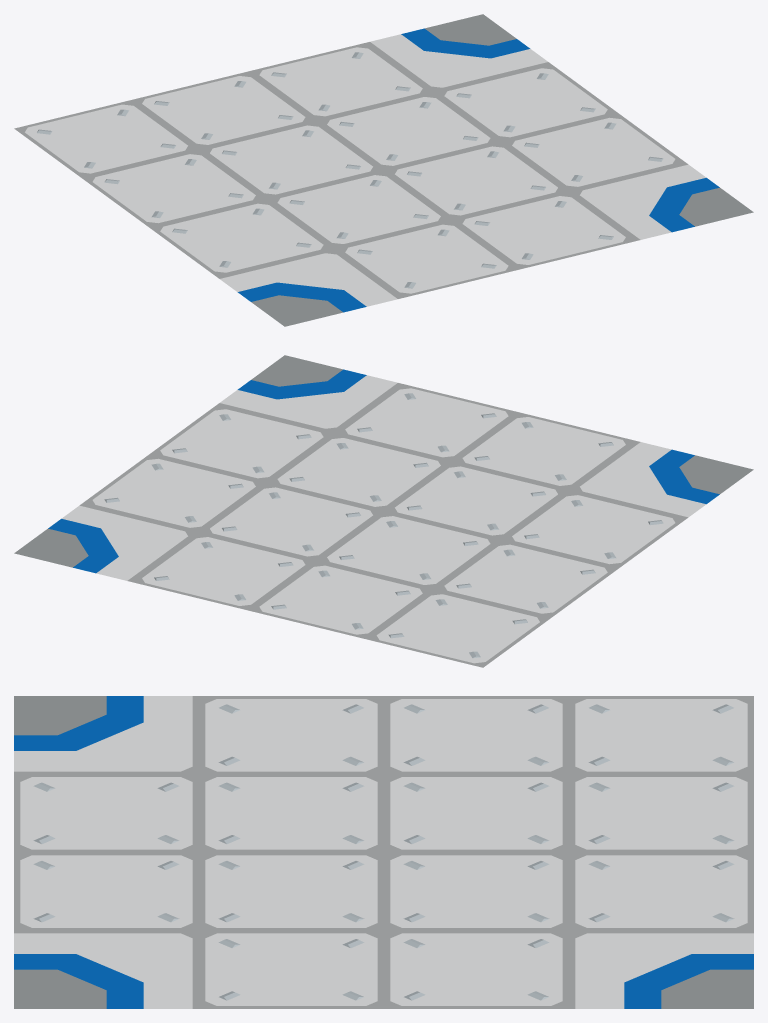
Rendered from Floor_type_A_030.fbx.
3 renders of one model, top to bottom at view 1: azimuth 30°, elevation 25°; view 2: azimuth 150°, elevation 25°; view 3: azimuth 270°, elevation 25°, orthographic. The views are drawn at different scales.
Visible parts, largest first — view 1: Floor_type_A_030; view 2: Floor_type_A_030; view 3: Floor_type_A_030.
Part boxes in pixels (x1,y1,x2,y2): Floor_type_A_030: [14, 14, 753, 326]; Floor_type_A_030: [14, 355, 753, 667]; Floor_type_A_030: [14, 696, 753, 1008].
Bounding box in the file's own units: 400 × 400 × 0.8.
